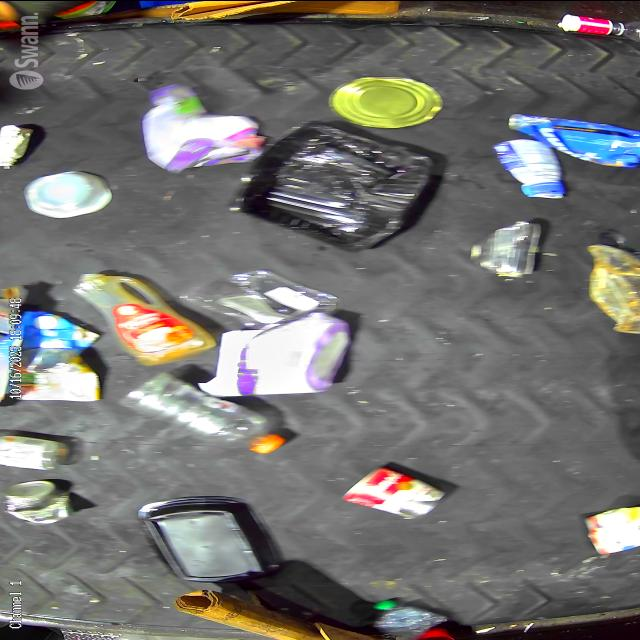can: (329, 75, 444, 127), (341, 465, 446, 519), (13, 346, 101, 401), (470, 218, 544, 276), (4, 480, 74, 524), (584, 504, 640, 554)
non_white_jug: (72, 271, 218, 365), (197, 312, 351, 396), (140, 82, 268, 172), (508, 111, 640, 168), (0, 310, 100, 374)
plastic_bottle: (119, 370, 288, 452), (369, 599, 447, 640)
